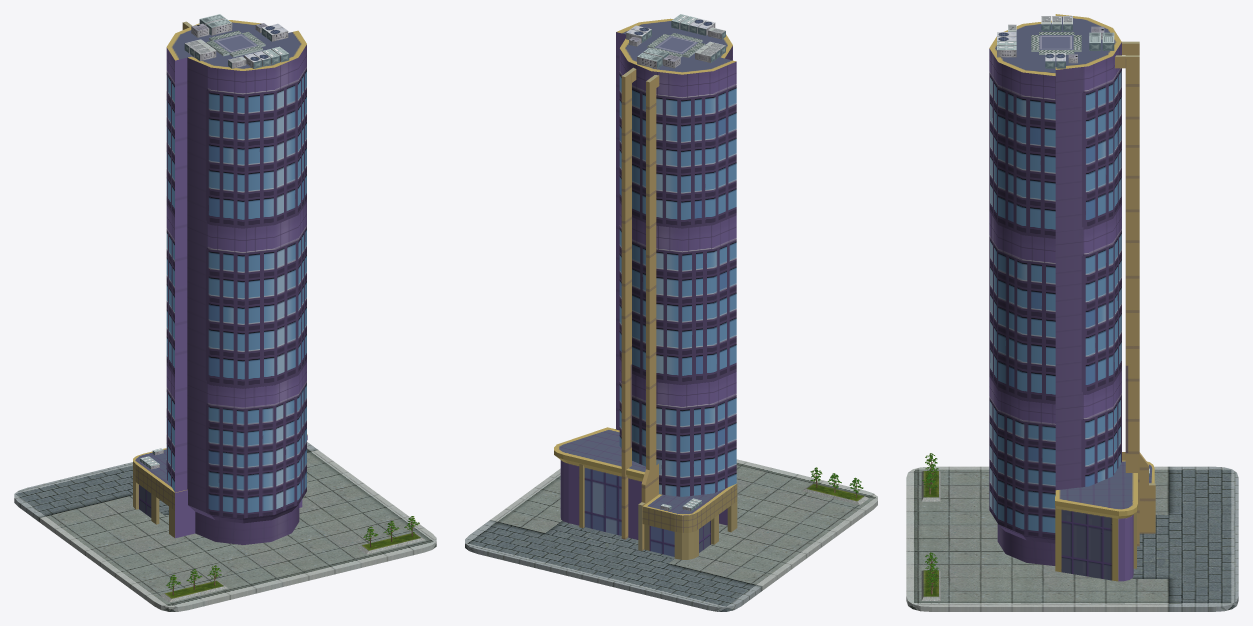
File: 01_yuanzhulou_init.FBX
3 views of the same model, side by side, from view 1: azimuth 30°, elevation 25°; view 2: azimuth 150°, elevation 25°; view 3: azimuth 270°, elevation 25° (orthographic). The views are drawn at different scales.
Parts seen in each view (by area): view 1: 01_yuanzhu_init, 01_di_init, 01shu_init; view 2: 01_yuanzhu_init, 01_di_init; view 3: 01_yuanzhu_init, 01_di_init, 01shu_init.
Boxes of the visible parts, x1,y1,x2,y2 form: 01_yuanzhu_init: (133, 14, 307, 544); 01_di_init: (14, 442, 436, 611); 01shu_init: (166, 516, 419, 595); 01_yuanzhu_init: (554, 14, 737, 559); 01_di_init: (465, 459, 877, 611); 01_yuanzhu_init: (989, 14, 1155, 581); 01_di_init: (906, 466, 1238, 611); 01shu_init: (922, 453, 938, 594).
Bounding box in the file's own units: 78.9 × 133 × 78.9.
